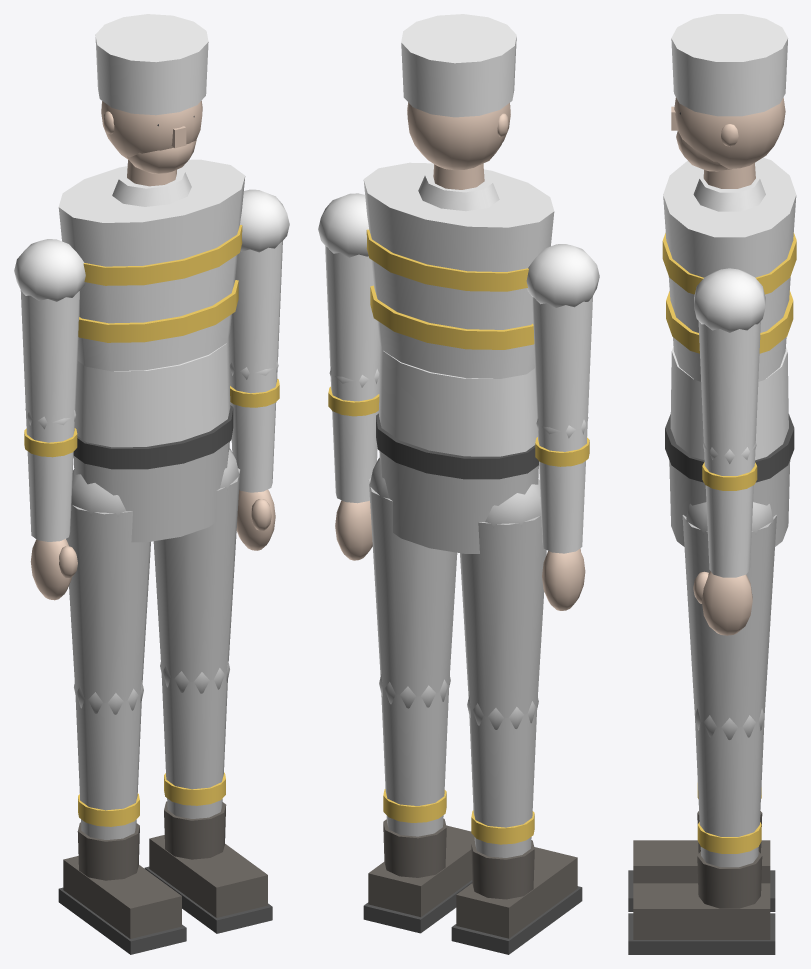
Rendered from cook.glb.
The picture shows the model from 3 angles, left to right: view 1: azimuth 30°, elevation 25°; view 2: azimuth 150°, elevation 25°; view 3: azimuth 270°, elevation 25°; orthographic projection. The views are drawn at different scales.
Parts seen in each view (by area): view 1: chest, head, hip_R, hip_L, spine, pelvis, ankle_R, shoulder_R, ankle_L, knee_R, knee_L, shoulder_L (+5 smaller); view 2: chest, hip_R, head, hip_L, spine, pelvis, shoulder_R, ankle_R, knee_L, knee_R, ankle_L, shoulder_L (+5 smaller); view 3: chest, head, hip_L, ankle_L, shoulder_L, knee_L, elbow_L, pelvis, spine, ankle_R, wrist_L, neck.
Boxes of the visible parts, <box> form: chest: <box>58,159,245,371</box>; head: <box>95,14,208,174</box>; hip_R: <box>66,469,150,702</box>; hip_L: <box>153,448,240,681</box>; spine: <box>74,337,230,447</box>; pelvis: <box>73,405,233,542</box>; ankle_R: <box>58,822,186,954</box>; shoulder_R: <box>14,239,85,422</box>; ankle_L: <box>144,801,272,933</box>; knee_R: <box>74,682,143,839</box>; knee_L: <box>160,660,229,818</box>; shoulder_L: <box>229,189,289,373</box>; chest: <box>363,162,554,378</box>; hip_R: <box>460,479,546,717</box>; head: <box>401,14,516,170</box>; hip_L: <box>368,458,457,696</box>; spine: <box>379,344,537,456</box>; pelvis: <box>376,413,538,553</box>; shoulder_R: <box>526,244,599,431</box>; ankle_R: <box>451,840,582,954</box>; knee_L: <box>379,674,450,836</box>; knee_R: <box>467,695,538,857</box>; ankle_L: <box>363,818,474,933</box>; shoulder_L: <box>318,193,380,380</box>; chest: <box>662,157,796,381</box>; head: <box>671,14,787,171</box>; hip_L: <box>682,502,776,727</box>; ankle_L: <box>628,851,775,954</box>; shoulder_L: <box>694,268,765,455</box>; knee_L: <box>694,708,764,867</box>; elbow_L: <box>702,442,757,577</box>; pelvis: <box>665,414,794,546</box>; spine: <box>670,346,788,460</box>; ankle_R: <box>628,811,775,911</box>; wrist_L: <box>693,571,752,635</box>; neck: <box>703,163,755,188</box>.
Size of the model in its own units: 0.6182 by 1.91 by 0.332.
